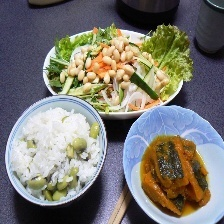rice: (5, 107, 101, 203)
